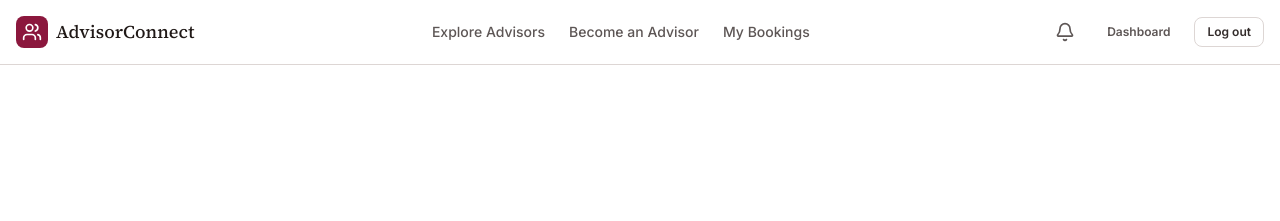
Navbar › notifications bell › shows a compact empty message
Step 1. Click the button named "notifications" → (1065,32), box [1047, 14, 1083, 50]
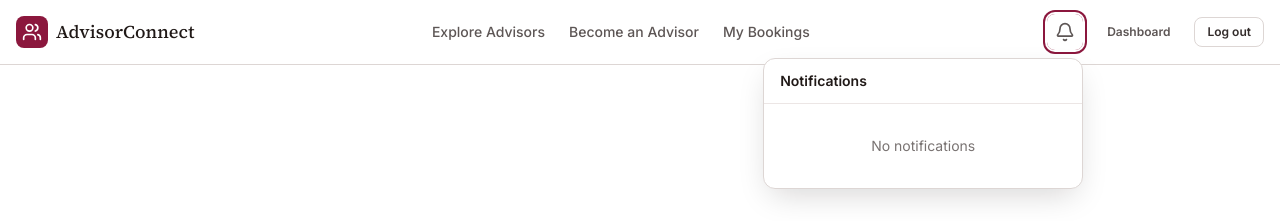
Expected: the text "No notifications" is shown, [871, 137, 975, 154]
